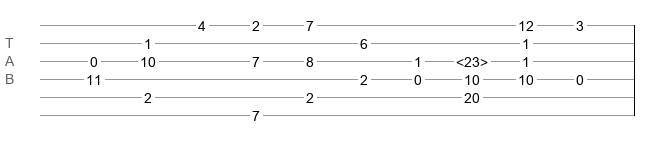0: (90, 54, 98, 64), (414, 72, 422, 82), (576, 72, 584, 82)
1: (144, 36, 152, 46), (414, 54, 422, 64), (522, 36, 530, 46), (522, 54, 530, 64)
10: (140, 54, 156, 64), (464, 72, 480, 82), (518, 72, 534, 82)
11: (86, 72, 102, 82)
12: (518, 18, 534, 28)
2: (144, 90, 152, 100), (252, 18, 260, 28), (306, 90, 314, 100), (360, 72, 368, 82)
20: (464, 90, 480, 100)
3: (576, 18, 584, 28)
4: (198, 18, 206, 28)
6: (360, 36, 368, 46)
7: (252, 54, 260, 64), (252, 108, 260, 118), (306, 18, 314, 28)
8: (306, 54, 314, 64)
harmonic: (456, 54, 488, 64)
